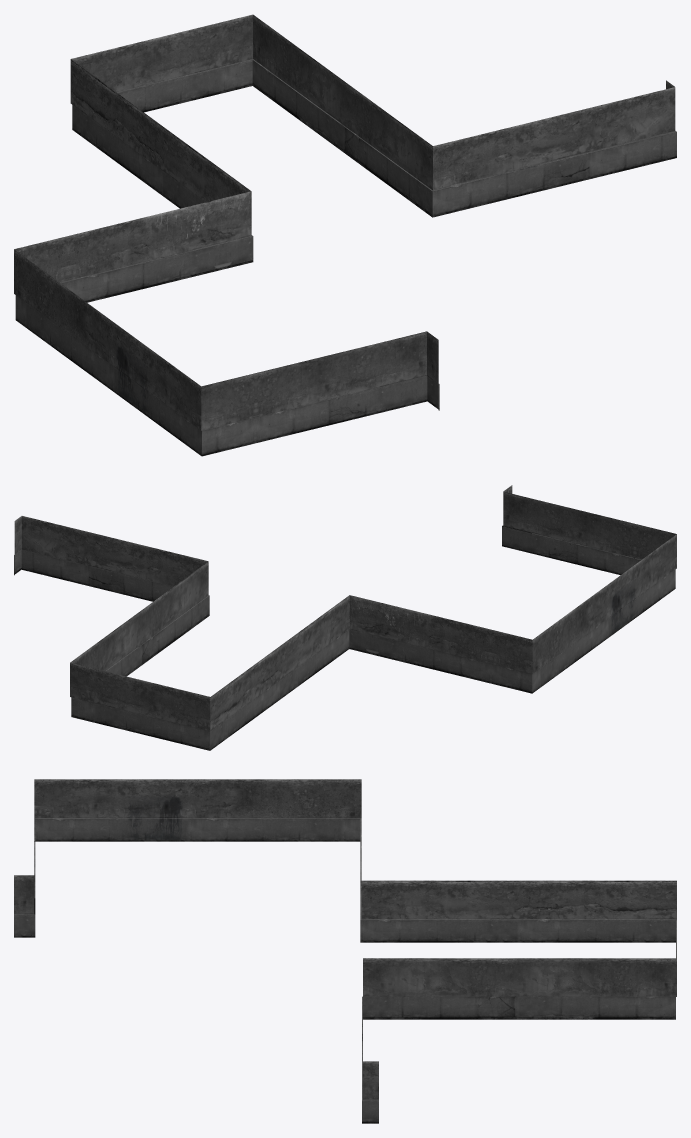
The model's file is alley_wall_1.fbx.
3 views of the same model, one above another, from view 1: azimuth 30°, elevation 25°; view 2: azimuth 150°, elevation 25°; view 3: azimuth 270°, elevation 25° (orthographic). The views are drawn at different scales.
Visible parts, largest first — view 1: alley_wall_1; view 2: alley_wall_1; view 3: alley_wall_1.
Part boxes in pixels (box(x1,y1,x2,y2)): alley_wall_1: box(14, 14, 676, 456); alley_wall_1: box(14, 485, 676, 750); alley_wall_1: box(14, 779, 676, 1123).
Bounding box in the file's own units: 1884 × 192 × 1869.
